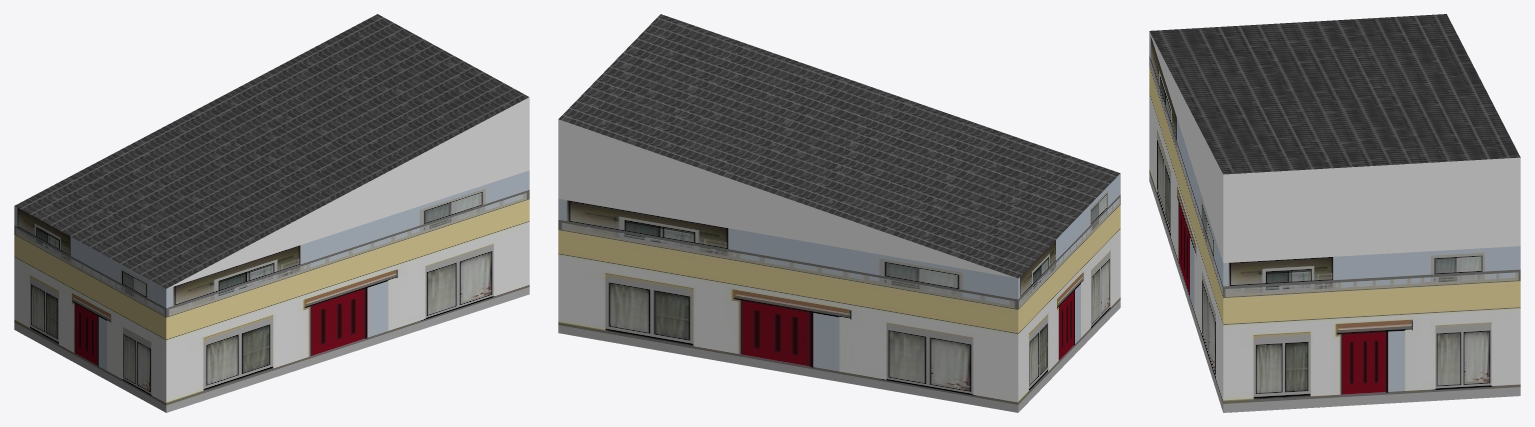
The picture shows the model from 3 angles, left to right: view 1: azimuth 30°, elevation 25°; view 2: azimuth 150°, elevation 25°; view 3: azimuth 270°, elevation 25°; orthographic projection. The views are drawn at different scales.
Visible parts, largest first — view 1: CityEngineMaterial_15_m, CityEngineMaterial_16_m, CityEngineMaterial_3_m; view 2: CityEngineMaterial_15_m, CityEngineMaterial_16_m, CityEngineMaterial_3_m; view 3: CityEngineMaterial_15_m, CityEngineMaterial_16_m, CityEngineMaterial_3_m.
Boxes of the visible parts, bbox=[...] form: CityEngineMaterial_15_m: bbox=[14, 170, 529, 412]; CityEngineMaterial_16_m: bbox=[15, 14, 528, 288]; CityEngineMaterial_3_m: bbox=[167, 97, 529, 288]; CityEngineMaterial_15_m: bbox=[558, 173, 1120, 412]; CityEngineMaterial_16_m: bbox=[558, 14, 1120, 278]; CityEngineMaterial_3_m: bbox=[558, 119, 1016, 278]; CityEngineMaterial_15_m: bbox=[1149, 32, 1520, 412]; CityEngineMaterial_16_m: bbox=[1149, 14, 1520, 174]; CityEngineMaterial_3_m: bbox=[1149, 32, 1520, 262].
Size of the model in its own units: 29.78 by 13.3 by 18.77.
